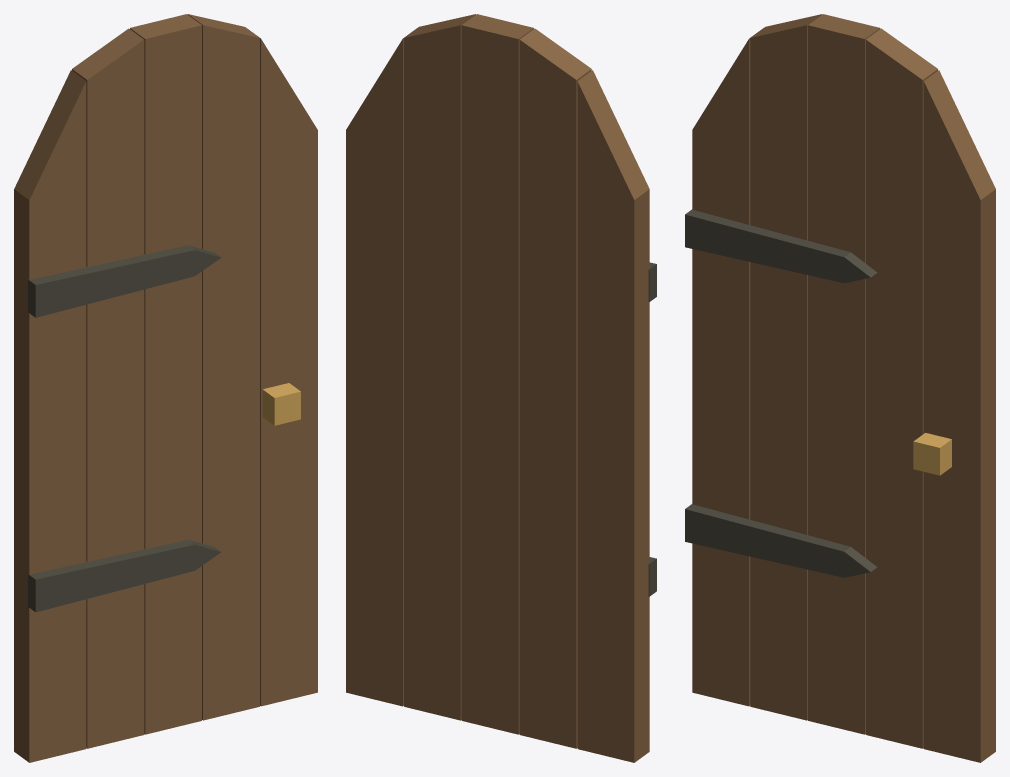
Rendered from oak_postern.glb.
3 renders of one model, left to right at view 1: azimuth 30°, elevation 25°; view 2: azimuth 150°, elevation 25°; view 3: azimuth 330°, elevation 25°, orthographic.
Visible parts, largest first — view 1: Oak postern; view 2: Oak postern; view 3: Oak postern.
Part boxes in pixels (left/top/right/bottom): Oak postern: left=14, top=14, right=317, bottom=762; Oak postern: left=346, top=14, right=656, bottom=762; Oak postern: left=685, top=14, right=995, bottom=762.
Bounding box in the file's own units: 0.544 × 1.25 × 0.089.
